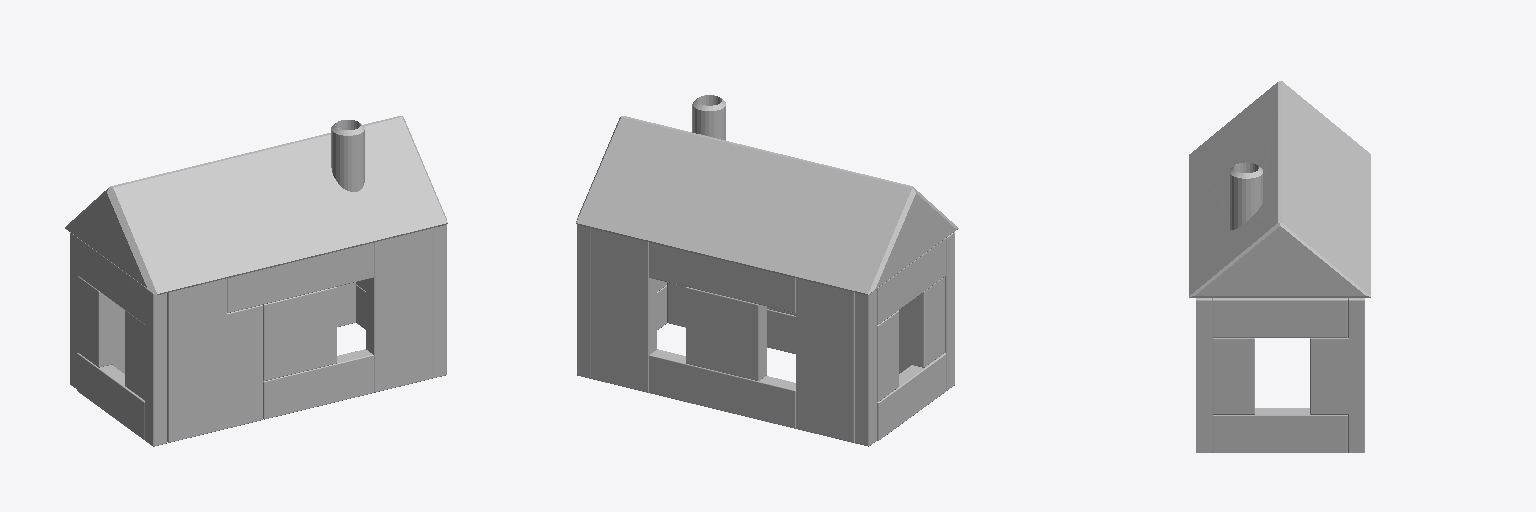
The model's file is housem.obj.
3 renders of one model, left to right at view 1: azimuth 30°, elevation 25°; view 2: azimuth 150°, elevation 25°; view 3: azimuth 270°, elevation 25°, orthographic.
Visible parts, largest first — view 1: obj_0; view 2: obj_0; view 3: obj_0.
Part boxes in pixels (bbox=[...]): obj_0: bbox=[65, 116, 447, 446]; obj_0: bbox=[576, 95, 958, 446]; obj_0: bbox=[1189, 81, 1370, 452].
Bounding box in the file's own units: 40.5 × 32.5 × 21.5.